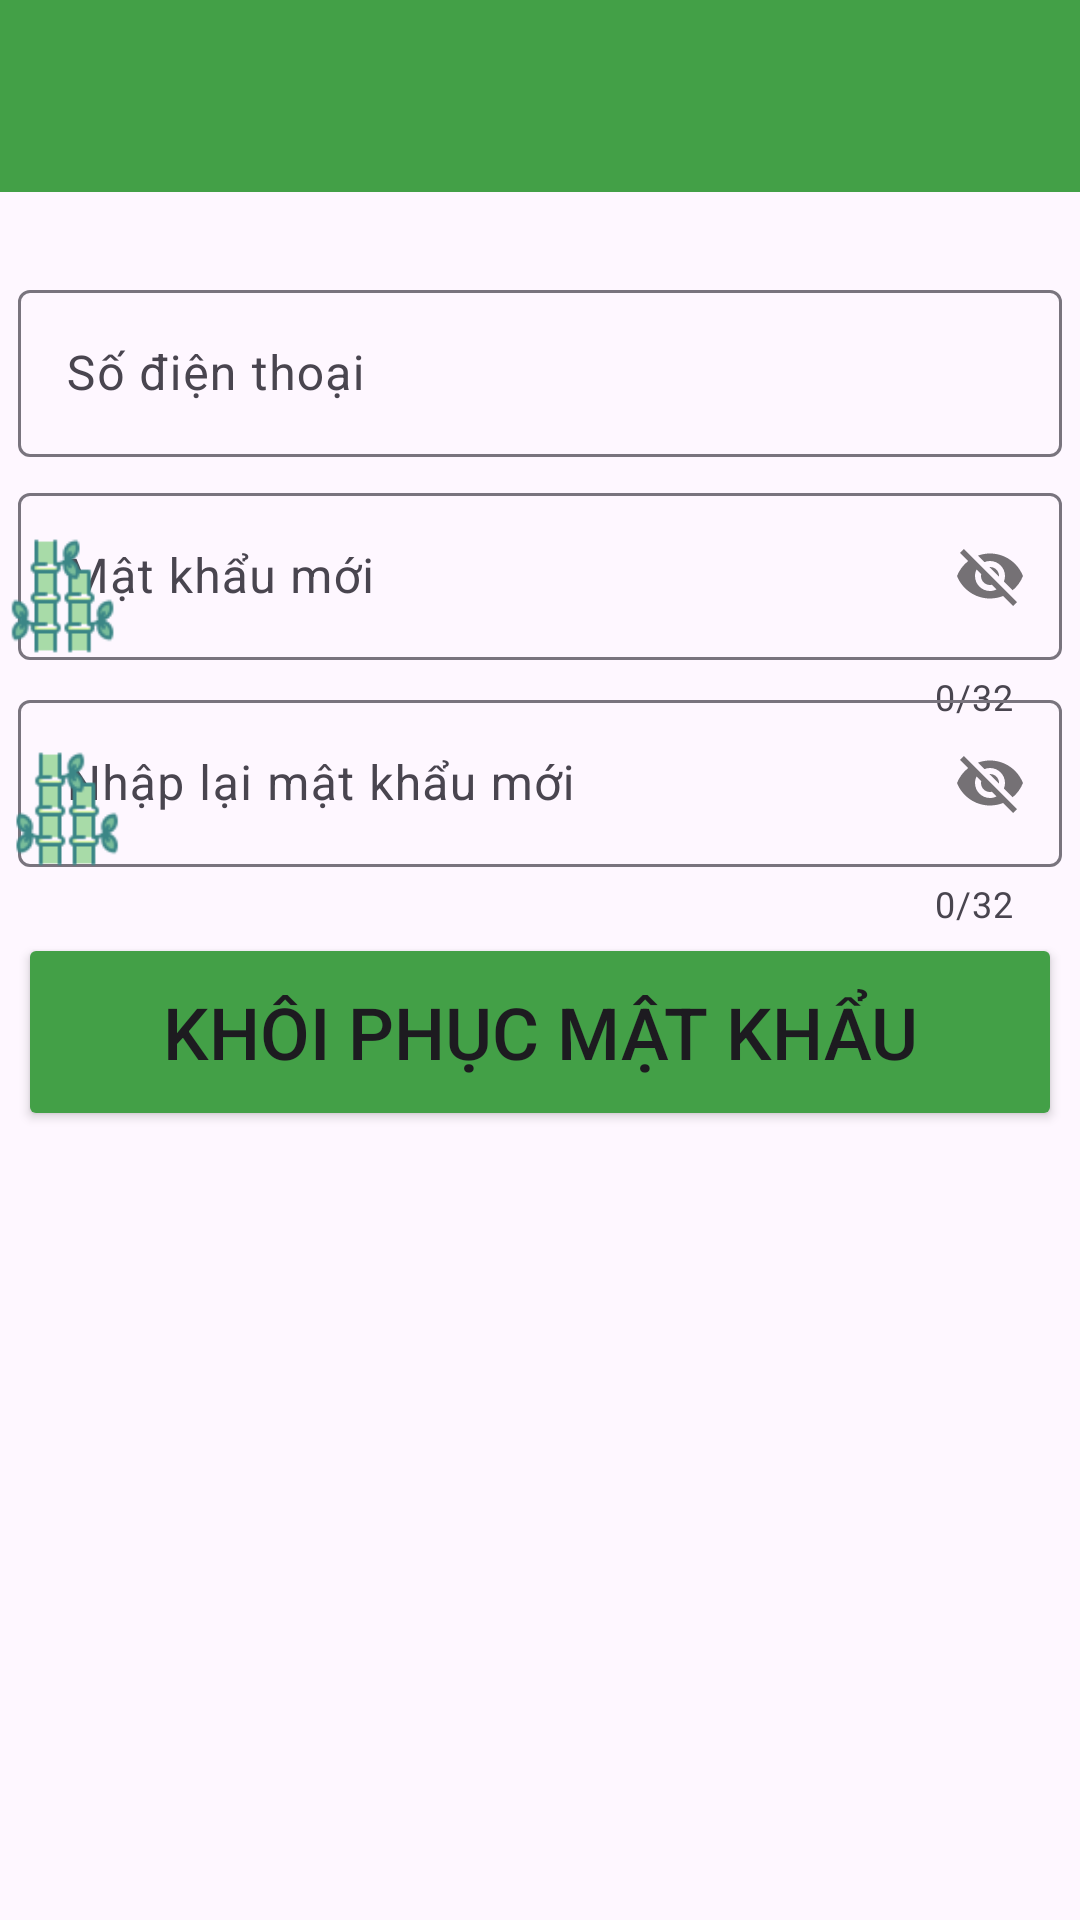

Named icons in this screenshot (1080px×1920px) and their bounding boxes, [left=x1, top=y1, right=x2, bottom=y2]:
icbamboo: [left=11, top=536, right=129, bottom=656], [left=16, top=749, right=138, bottom=867]
